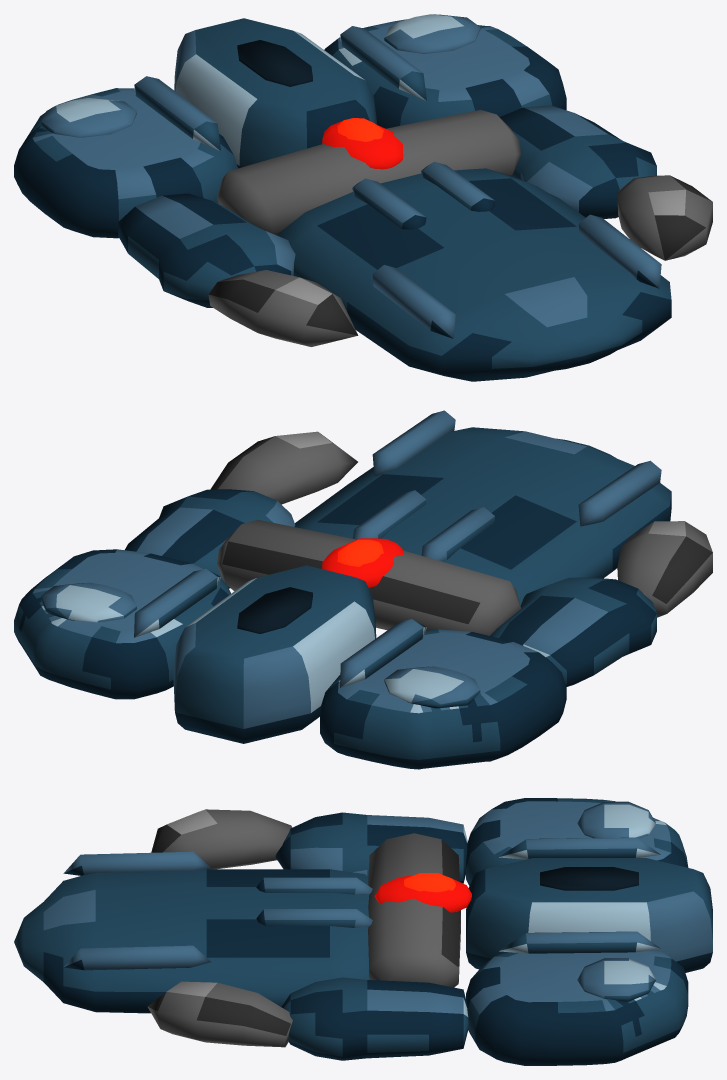
File: newshv-48.glb
3 views of the same model, one above another, from view 1: azimuth 30°, elevation 25°; view 2: azimuth 150°, elevation 25°; view 3: azimuth 270°, elevation 25° (orthographic). The views are drawn at different scales.
Visible parts, largest first — view 1: newshv-48; view 2: newshv-48; view 3: newshv-48.
Boxes of the visible parts, x1,y1,x2,y2 form: newshv-48: [14, 14, 712, 381]; newshv-48: [14, 410, 712, 769]; newshv-48: [14, 798, 712, 1065].
Size of the model in its own units: 1.83 by 0.3888 by 2.36.
